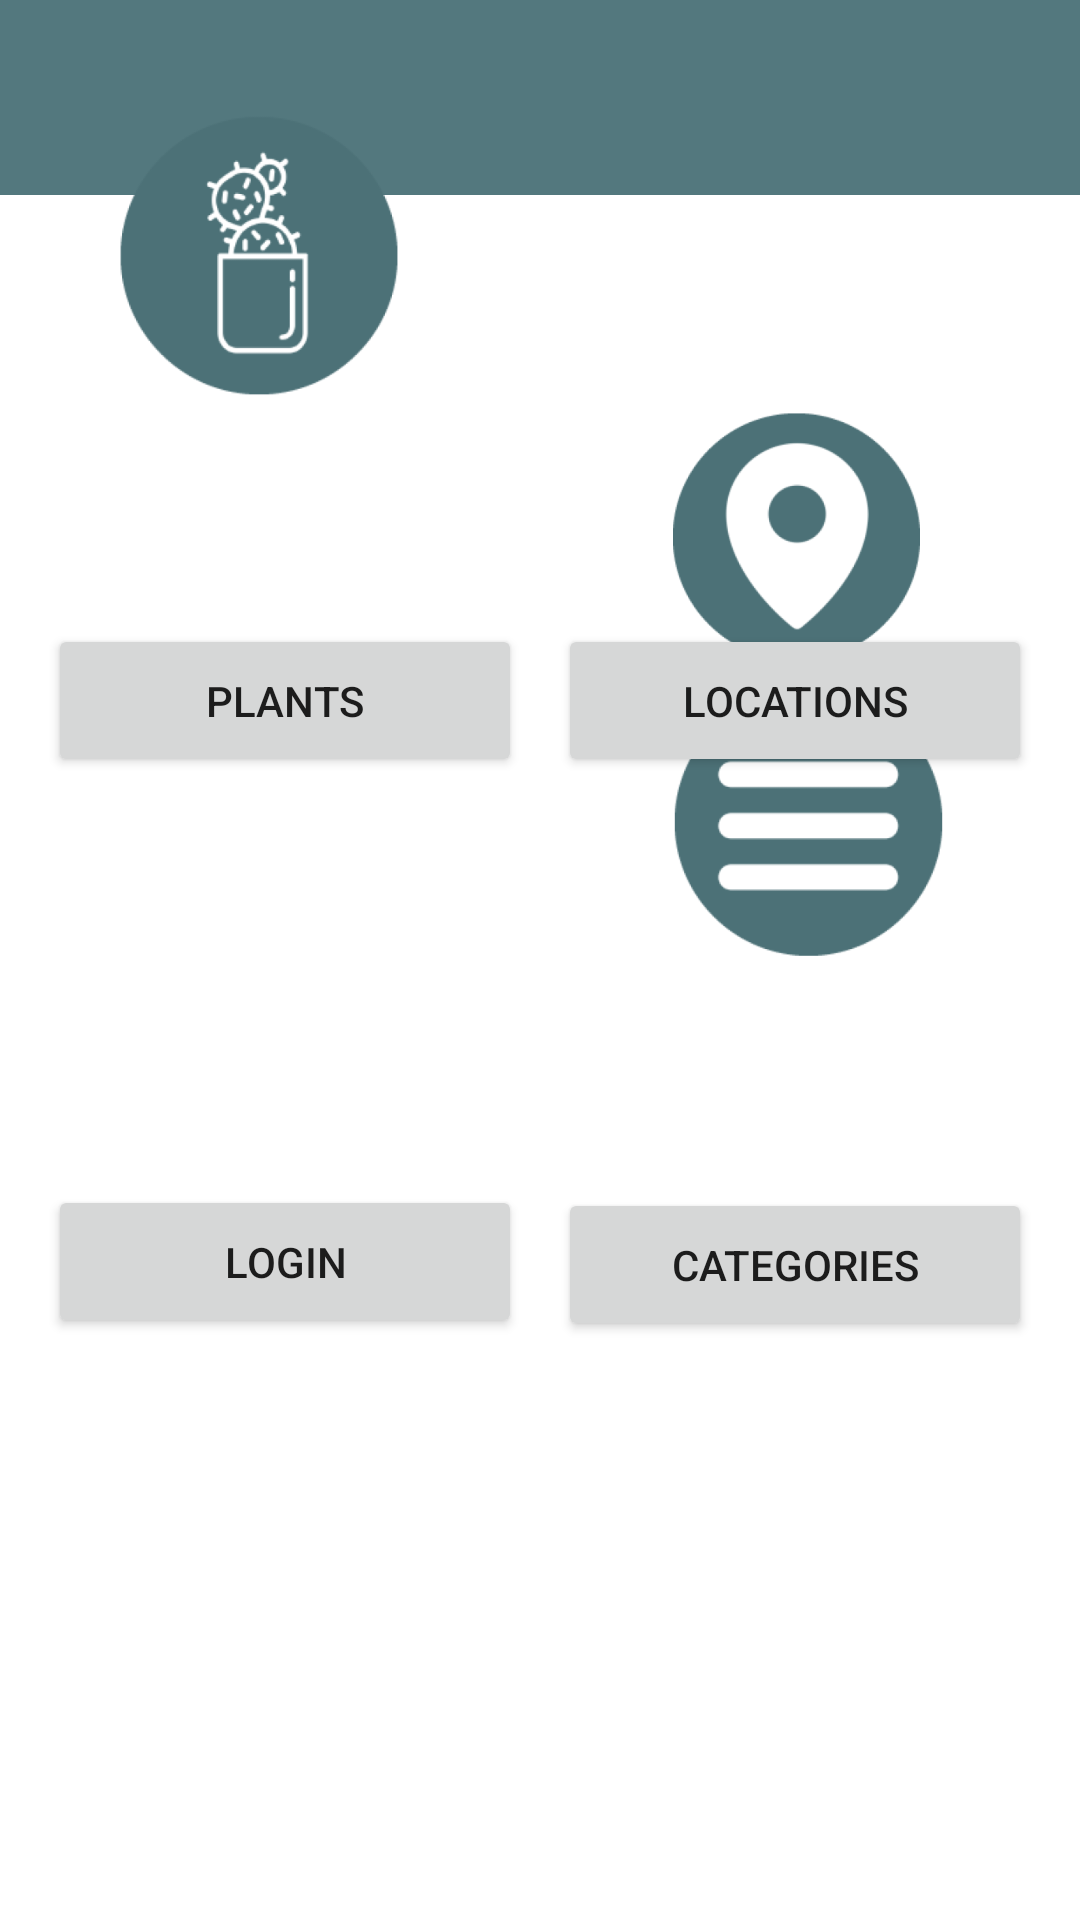

Screen size 1080w x 1920h. Icon name, then its center in pixels as (x,y):
cactus: (257,254)
